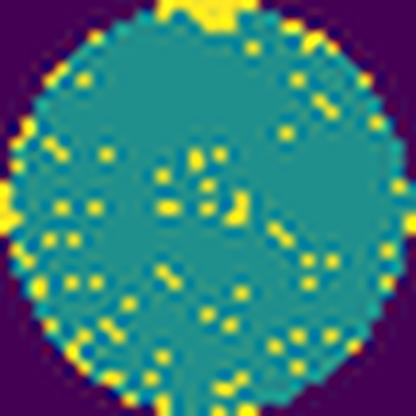Edge-Loc: (151, 0, 262, 33)
